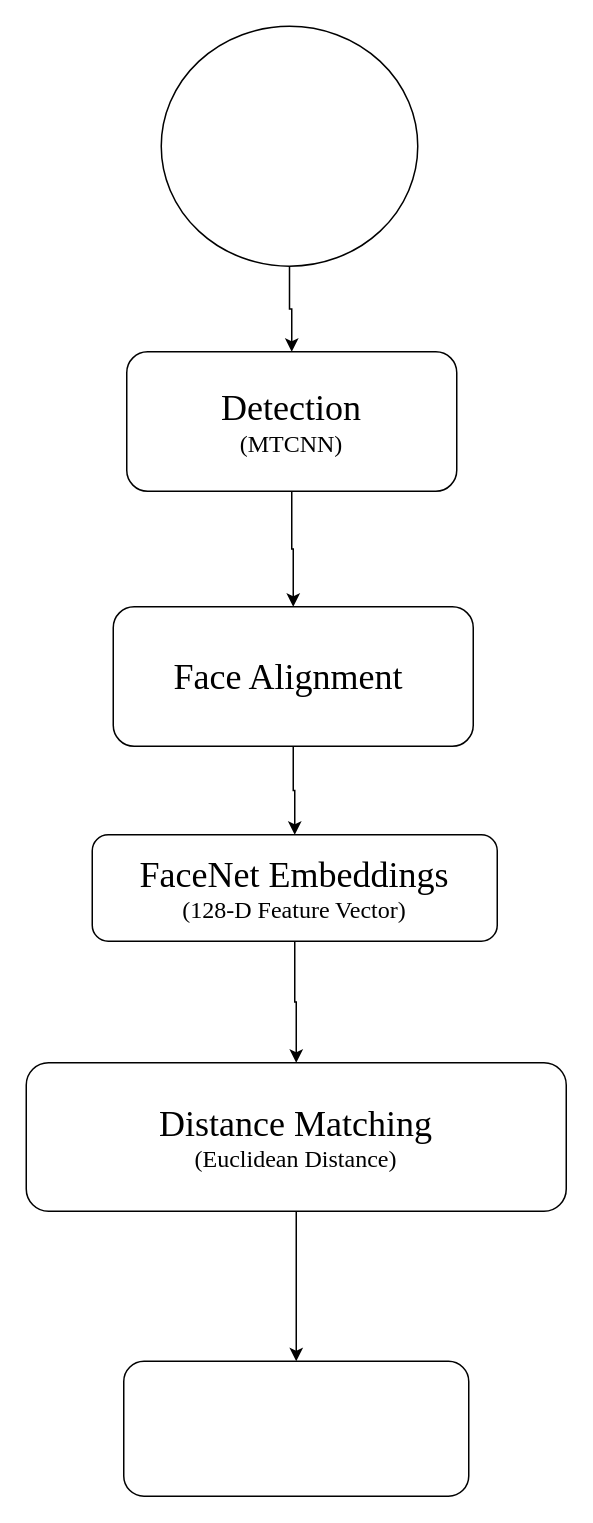
This 593x1523 diagram has some shape labels left out. Each missing label, with the centre of its shape:
Attendance Marking: (x=295, y=1428)
Image Capture (Camera Input): (x=289, y=145)
